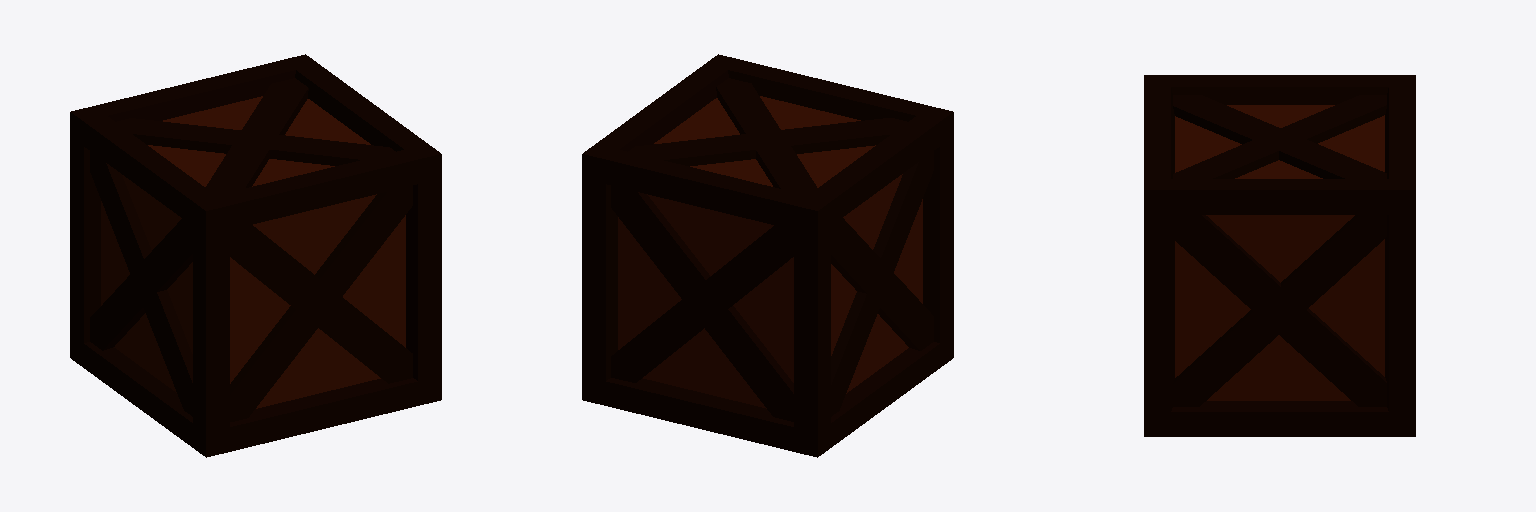
The picture shows the model from 3 angles: view 1: azimuth 30°, elevation 25°; view 2: azimuth 150°, elevation 25°; view 3: azimuth 270°, elevation 25°; orthographic projection.
Visible parts, largest first — view 1: ForestCrate_Cube.041; view 2: ForestCrate_Cube.041; view 3: ForestCrate_Cube.041.
Part boxes in pixels (x1,y1,x2,y2): ForestCrate_Cube.041: (70,54,441,457); ForestCrate_Cube.041: (582,54,953,457); ForestCrate_Cube.041: (1144,75,1415,436).
Size of the model in its own units: 1.4 by 1.4 by 1.4.